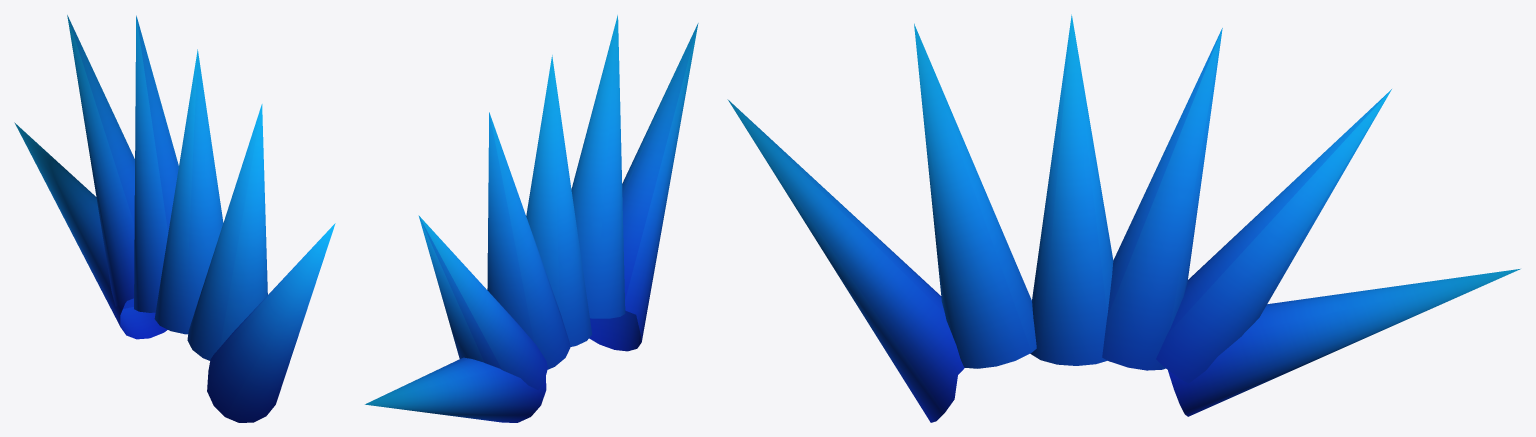
The model's file is CabeloPunk.fbx.
3 views of the same model, side by side, from view 1: azimuth 30°, elevation 25°; view 2: azimuth 150°, elevation 25°; view 3: azimuth 270°, elevation 25° (orthographic). The views are drawn at different scales.
Visible parts, largest first — view 1: CabeloPunk; view 2: CabeloPunk; view 3: CabeloPunk.
Part boxes in pixels (x1,y1,x2,y2): CabeloPunk: [14, 15, 335, 422]; CabeloPunk: [365, 15, 698, 422]; CabeloPunk: [727, 14, 1520, 422].
Bounding box in the file's own units: 46.73 × 198 × 352.
